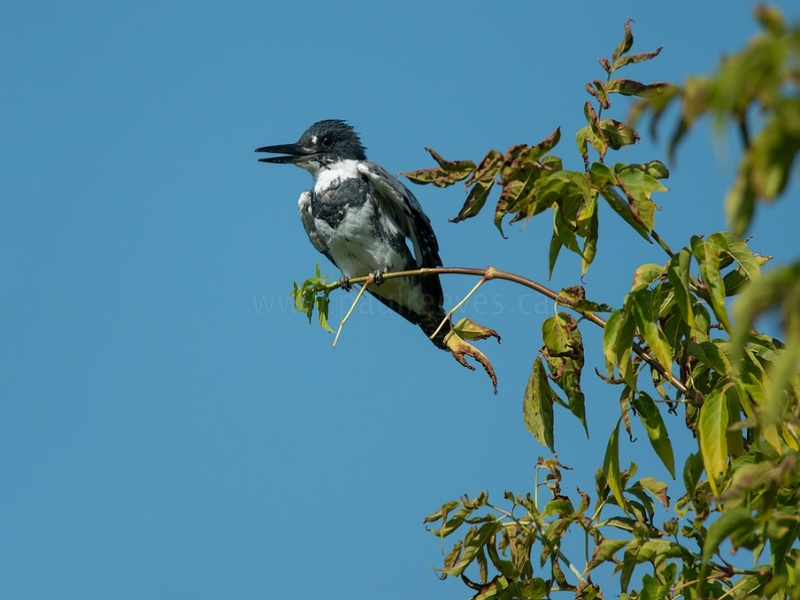kingfisher: (253, 117, 459, 355)
